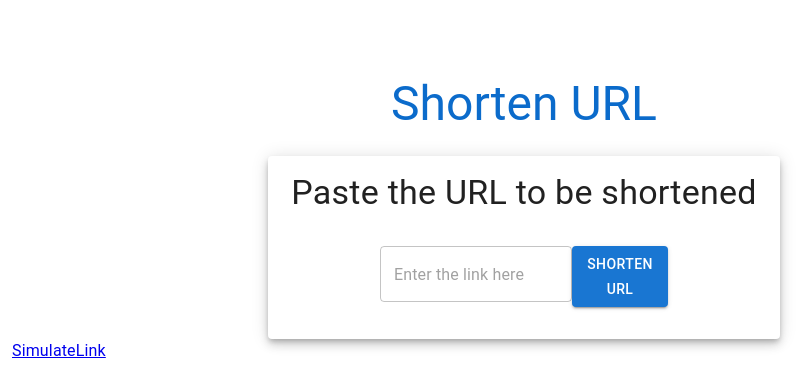
it: ShortenUrlPage › should redirect to original url correctly
Click the link "SimulateLink".
click(59, 350)  # box [12,341,106,360]
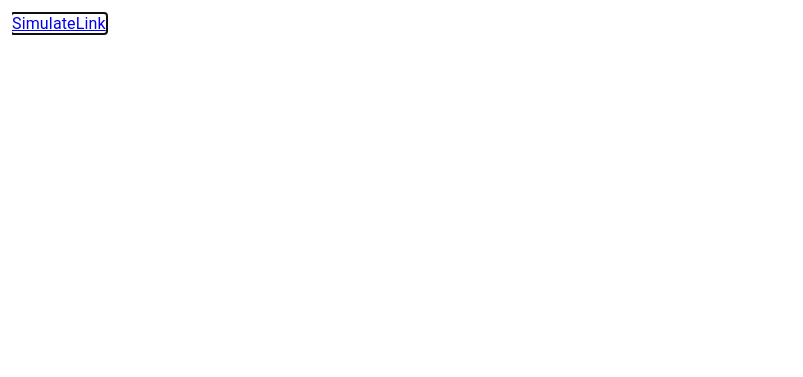
Result: the text "Paste the URL to be shortened" is gone
